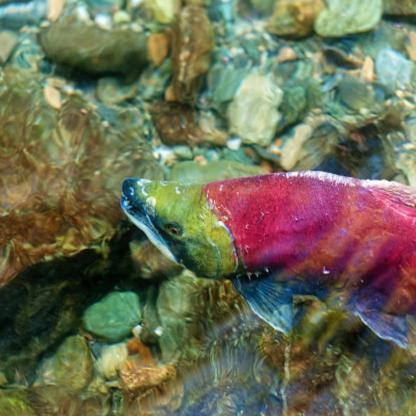sockeye: (119, 157, 416, 347)
